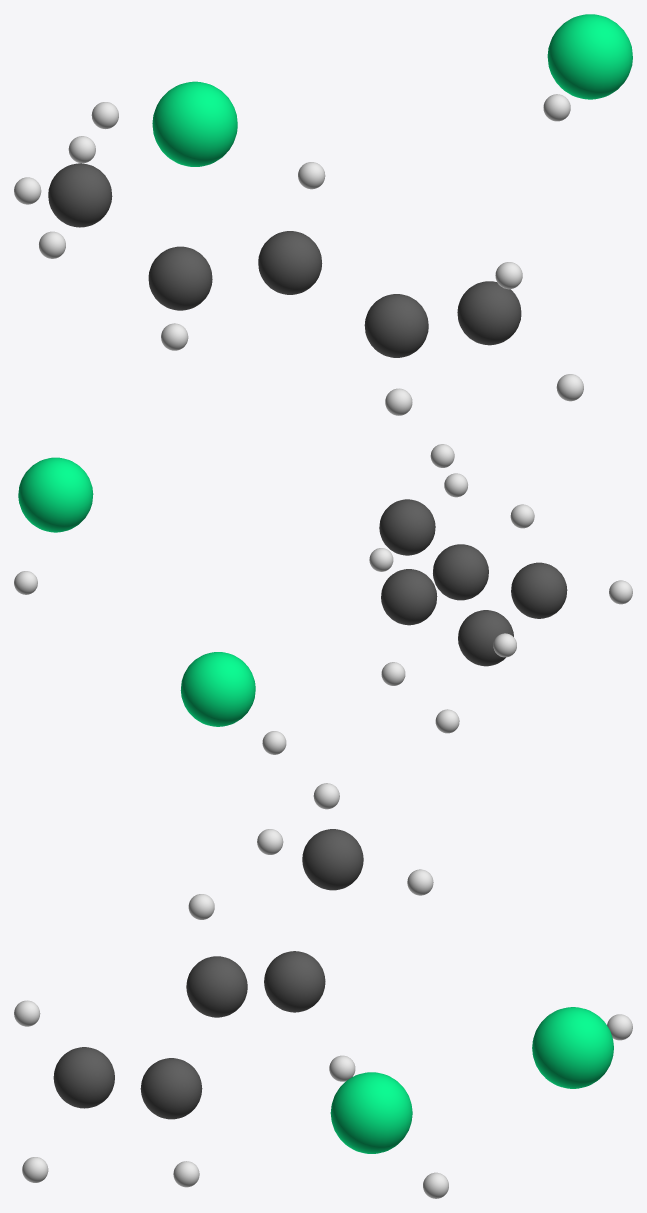
Rendered from HCl-1,3,diene_full.fbx.
The picture shows the model from 3 angles, top to bottom: view 1: azimuth 30°, elevation 25°; view 2: azimuth 150°, elevation 25°; view 3: azimuth 270°, elevation 25°; orthographic projection. The views are drawn at different scales.
Visible parts, largest first — view 1: Cl17, Cl15, C09, C11, C07, C05, C01, H04, H06, H03, H10, H12 (+5 smaller); view 2: Cl17, Cl15, C07, C11, C01, C05, C09, H10, H14, H06, H08, H16 (+5 smaller); view 3: Cl17, Cl15, C09, C07, C11, C01, C05.
Part boxes in pixels (x1,y1,x2,y2): Cl17: [547, 14, 632, 99]; Cl15: [152, 81, 237, 166]; C09: [148, 246, 212, 310]; C11: [48, 163, 112, 227]; C07: [258, 231, 322, 294]; C05: [364, 294, 428, 357]; C01: [457, 281, 521, 345]; H04: [543, 94, 570, 121]; H06: [385, 388, 412, 415]; H03: [495, 262, 522, 289]; H10: [161, 323, 188, 350]; H12: [14, 177, 41, 204]; Cl17: [18, 457, 93, 532]; Cl15: [180, 652, 255, 726]; C07: [433, 544, 488, 600]; C11: [511, 562, 567, 618]; C01: [379, 499, 435, 555]; C05: [381, 569, 437, 625]; C09: [458, 610, 513, 666]; H10: [435, 709, 459, 733]; H14: [510, 504, 534, 528]; H06: [381, 662, 405, 685]; H08: [444, 473, 467, 497]; H16: [262, 731, 286, 754]; Cl17: [330, 1072, 412, 1153]; Cl15: [532, 1007, 613, 1088]; C09: [264, 951, 325, 1012]; C07: [186, 956, 247, 1017]; C11: [302, 829, 363, 890]; C01: [53, 1047, 114, 1108]; C05: [140, 1058, 202, 1119].
Size of the model in its own units: 863 by 402 by 755.
